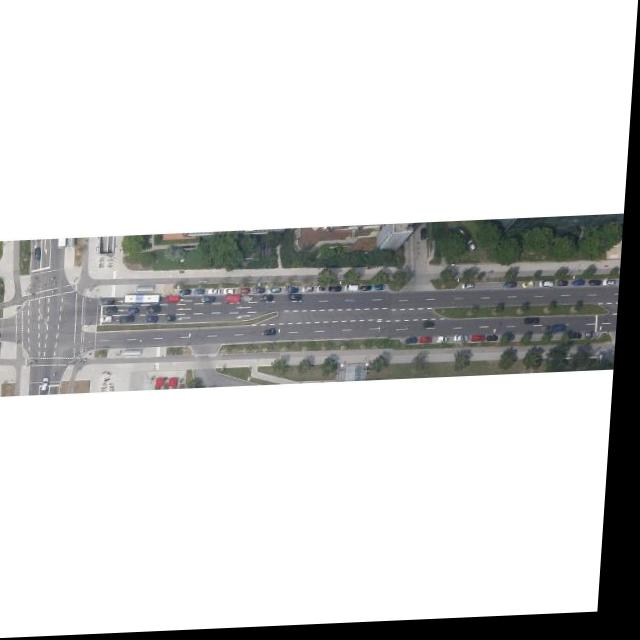vehicle: (469, 244, 483, 256), (229, 296, 244, 306), (149, 307, 166, 315), (557, 329, 572, 338), (291, 296, 306, 304), (507, 285, 520, 294), (104, 299, 118, 307), (125, 316, 139, 324), (149, 317, 163, 325), (205, 297, 219, 305), (264, 297, 278, 305), (349, 288, 363, 296), (47, 378, 54, 393), (109, 307, 122, 315), (507, 338, 520, 346), (575, 284, 588, 292), (290, 288, 303, 296), (530, 322, 544, 329), (170, 298, 184, 305), (544, 286, 558, 293), (575, 337, 587, 345), (272, 289, 285, 296), (527, 286, 538, 294), (38, 249, 45, 261), (105, 317, 117, 324), (169, 317, 181, 324), (423, 232, 430, 244), (411, 340, 423, 347), (459, 340, 473, 346), (257, 290, 269, 297), (269, 331, 280, 338), (243, 290, 254, 297), (184, 290, 195, 297), (425, 341, 437, 347), (608, 285, 620, 291), (466, 287, 478, 293), (333, 289, 345, 295), (212, 291, 224, 297), (132, 309, 142, 316), (442, 340, 452, 347), (592, 286, 606, 291), (306, 288, 316, 295), (477, 340, 490, 345), (247, 297, 256, 304), (492, 340, 502, 346), (561, 286, 571, 292), (228, 290, 238, 296), (198, 290, 208, 296), (429, 325, 439, 331), (590, 338, 600, 343), (365, 289, 375, 294), (0, 333, 6, 340), (378, 289, 388, 293), (322, 289, 328, 295), (547, 332, 554, 336)
